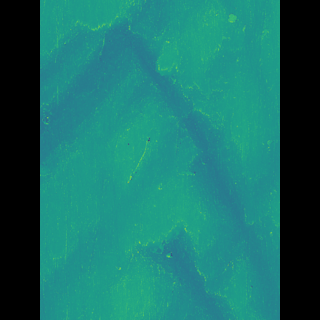Loch: (132, 29, 219, 218), (70, 0, 151, 188), (100, 226, 220, 320)
